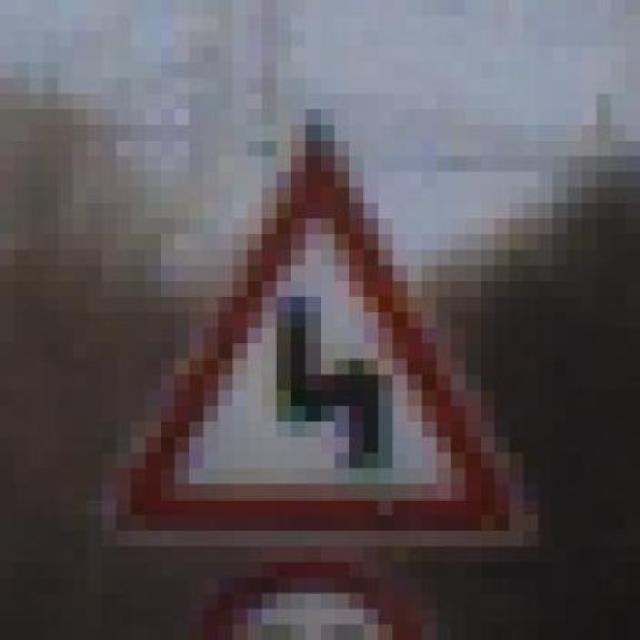Left Zig Zag Traffic: (73, 109, 553, 562)
